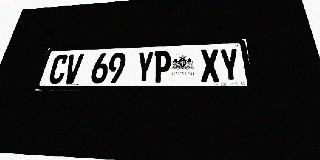6: (90, 53, 111, 83)
9: (106, 52, 127, 83)
C: (47, 55, 69, 84)
P: (153, 51, 171, 83)
V: (62, 54, 84, 84)
X: (200, 49, 221, 82)
Y: (219, 48, 241, 82), (135, 51, 154, 83)
